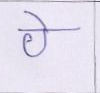e_matra: (24, 10, 50, 28)
